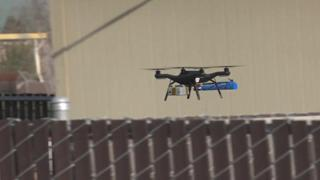UAV: (142, 66, 245, 101)
